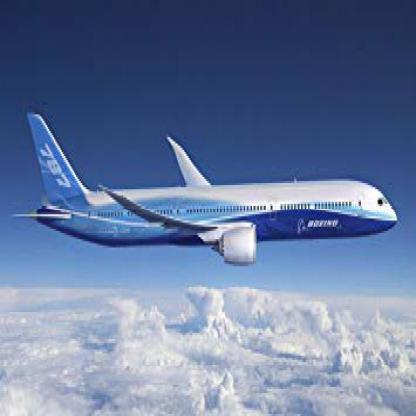CIV_Plane: (7, 108, 403, 274)
